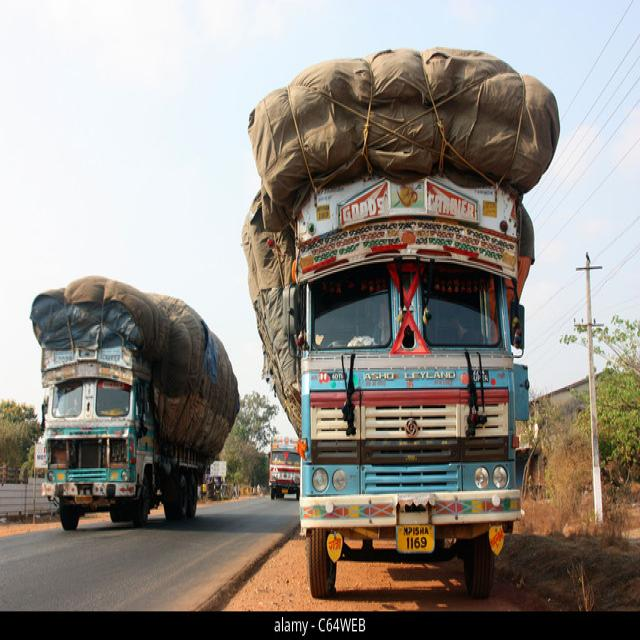normal_truck: (295, 172, 536, 601), (42, 344, 199, 531), (267, 442, 300, 500)
overloaded_truck: (242, 47, 562, 424), (30, 276, 240, 460)
